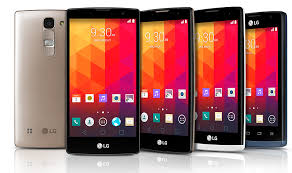lg: (67, 5, 141, 159), (137, 3, 198, 155), (194, 3, 248, 154), (9, 8, 63, 153)
